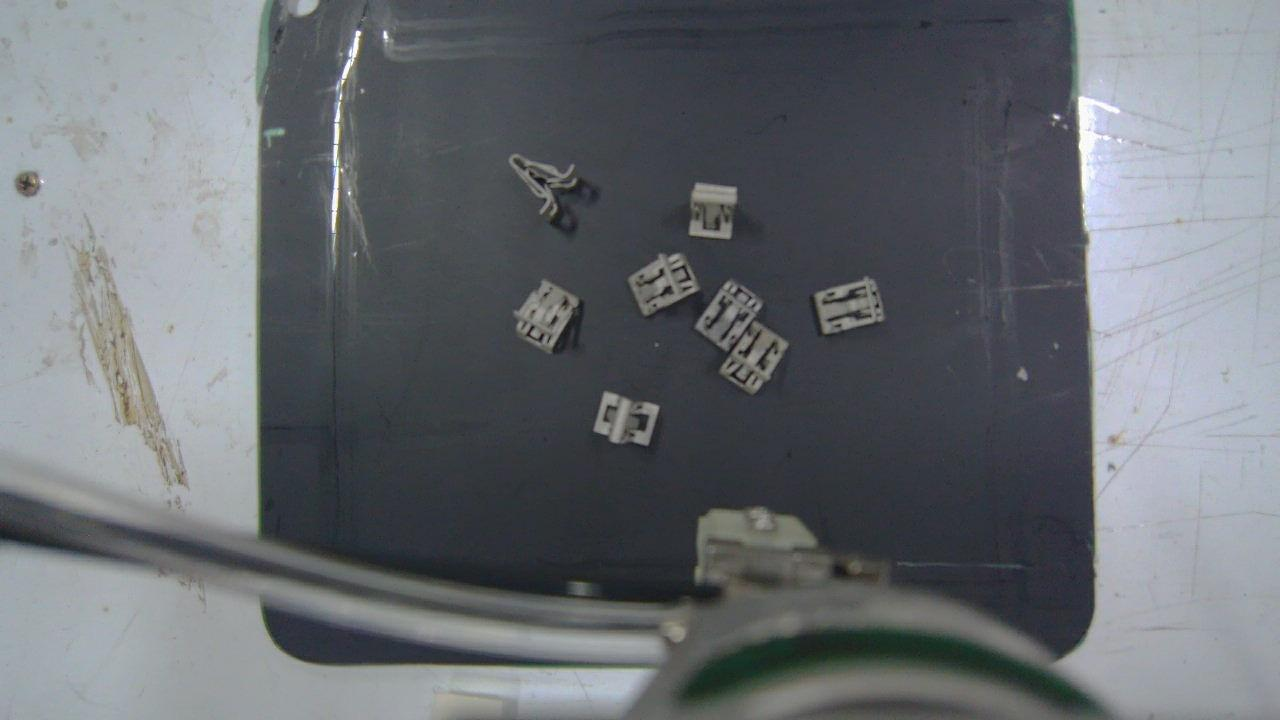ng: (720, 321, 791, 395), (695, 280, 768, 349), (513, 281, 582, 351), (507, 154, 581, 218), (627, 252, 701, 314), (813, 279, 887, 334), (686, 185, 740, 237)
pass: (593, 391, 659, 444)
